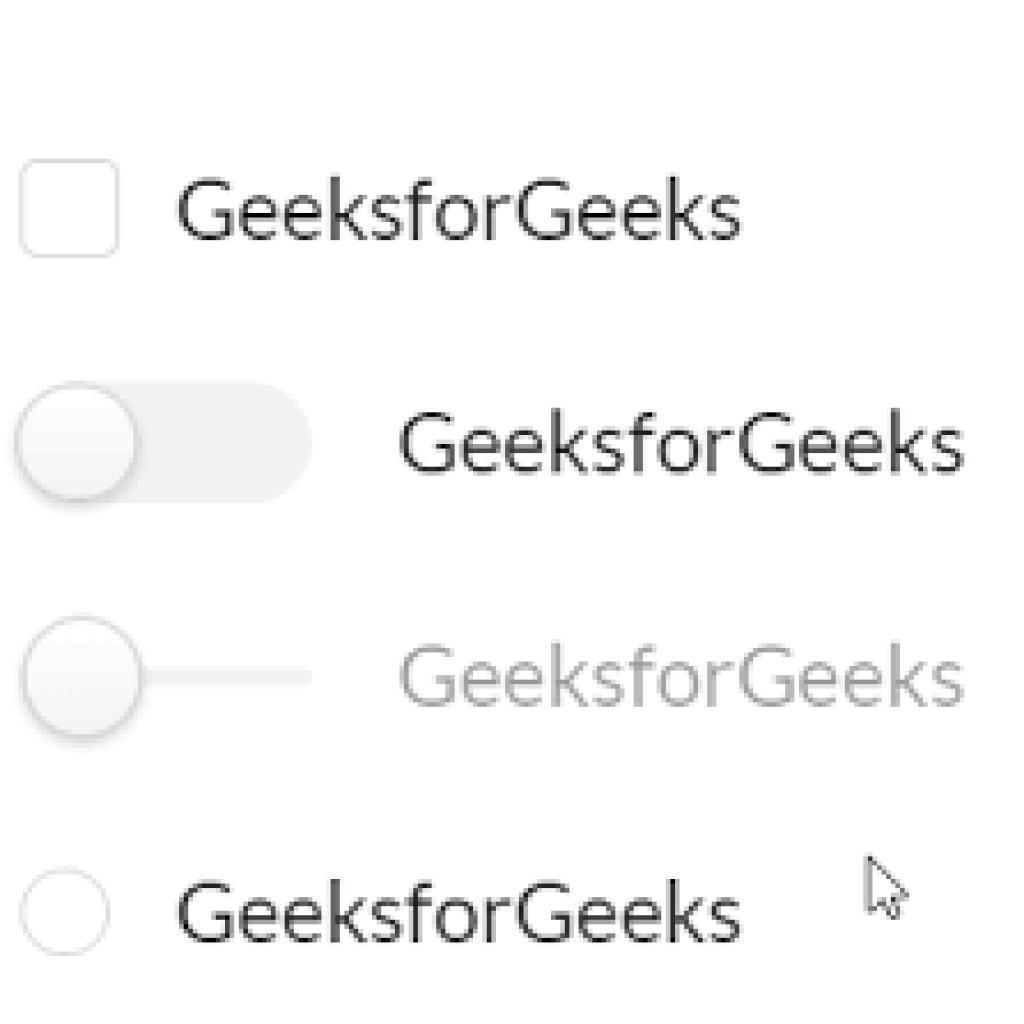checkbox: (17, 147, 126, 268)
radio: (11, 853, 118, 983)
switch: (12, 378, 317, 516)
